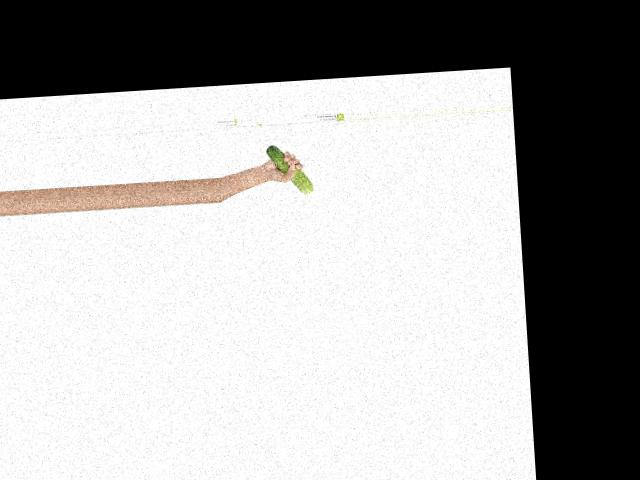cucumber: (264, 142, 313, 196)
